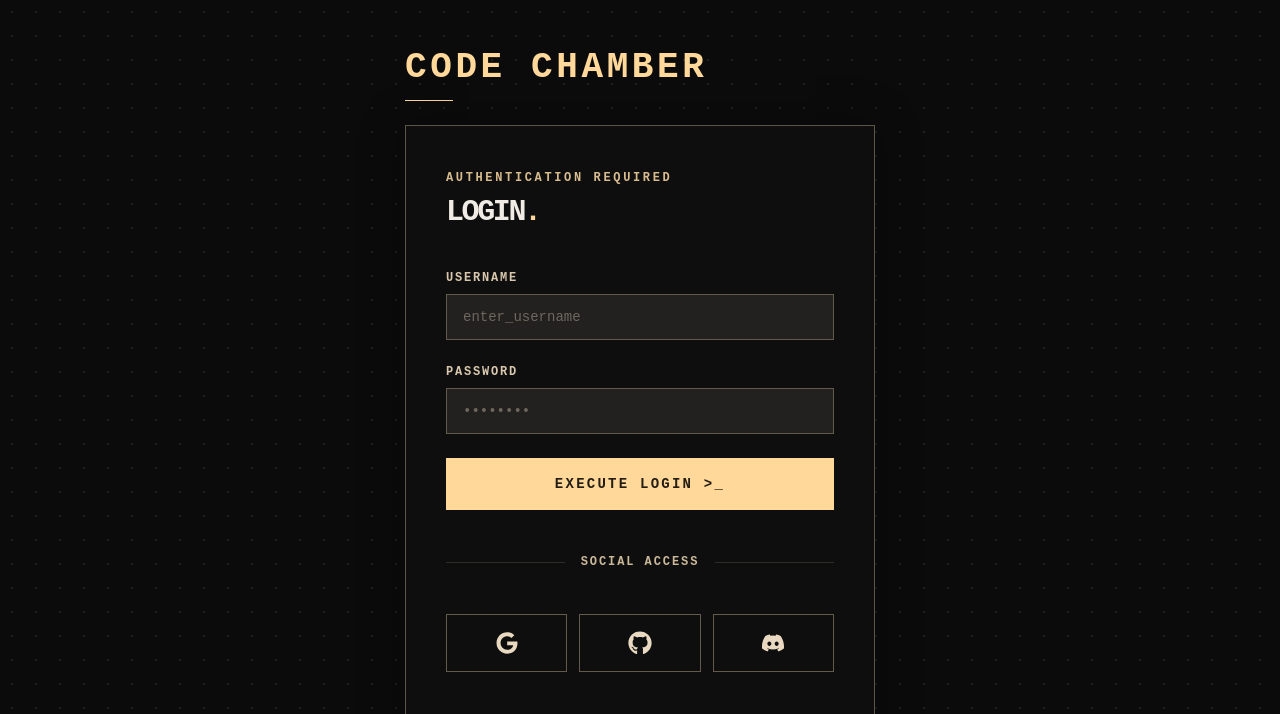
Scenario: Login - manual submit › shows the authenticating state and disables the submit button while in flight
In the field with placeholder "enter_username": (640, 317) [446,294,834,340], type "alice"
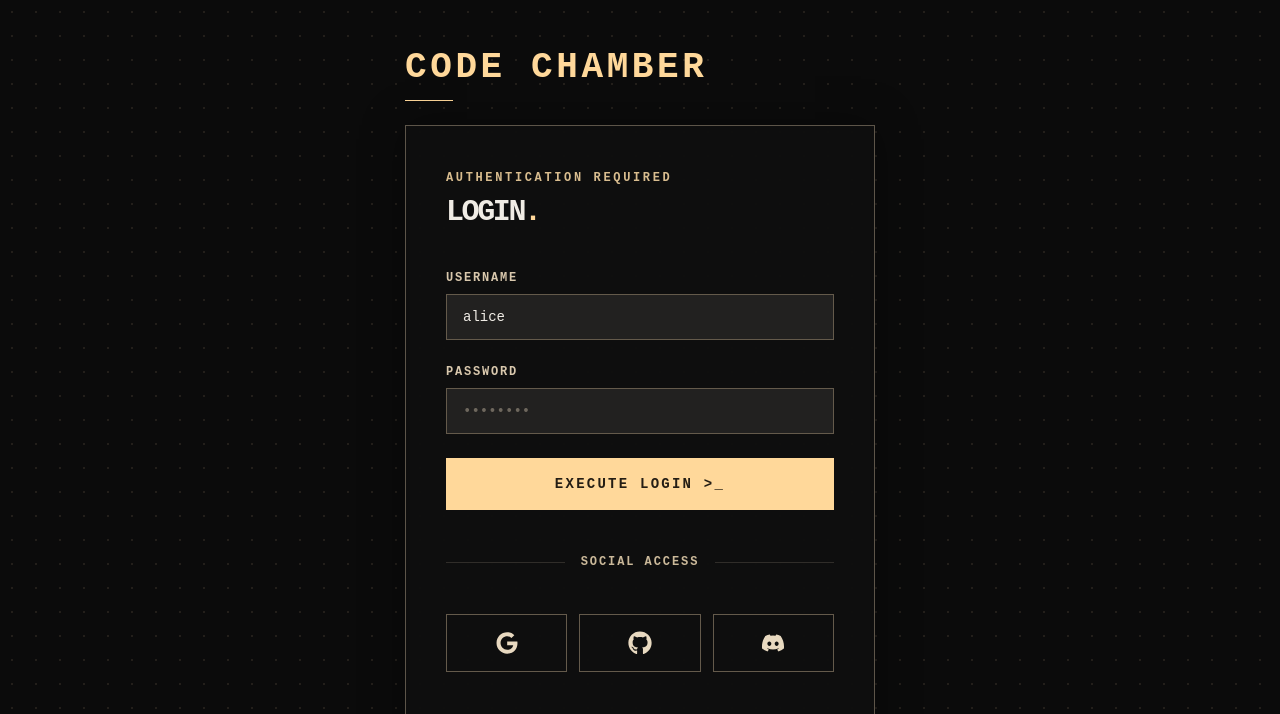
In the password field with placeholder "••••••••": (640, 411) [446,388,834,434], type "hunter2"
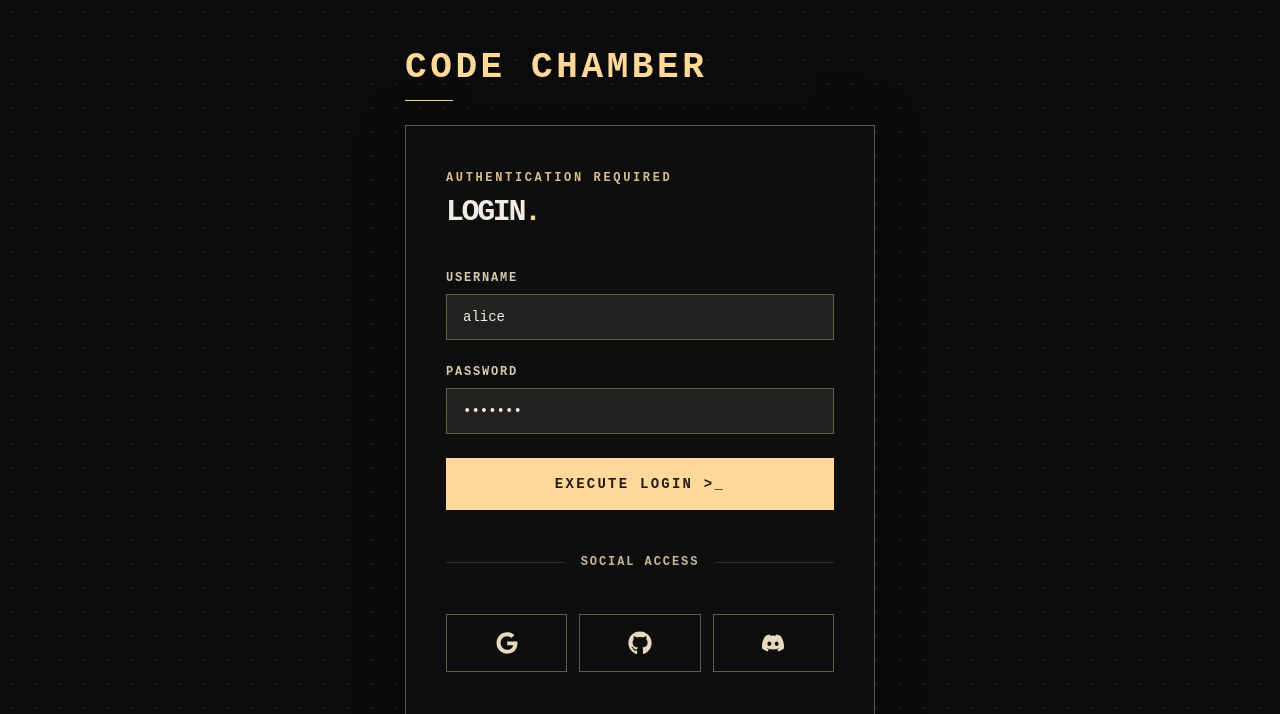
Click the button "EXECUTE LOGIN >_": click(640, 484) [446,458,834,510]
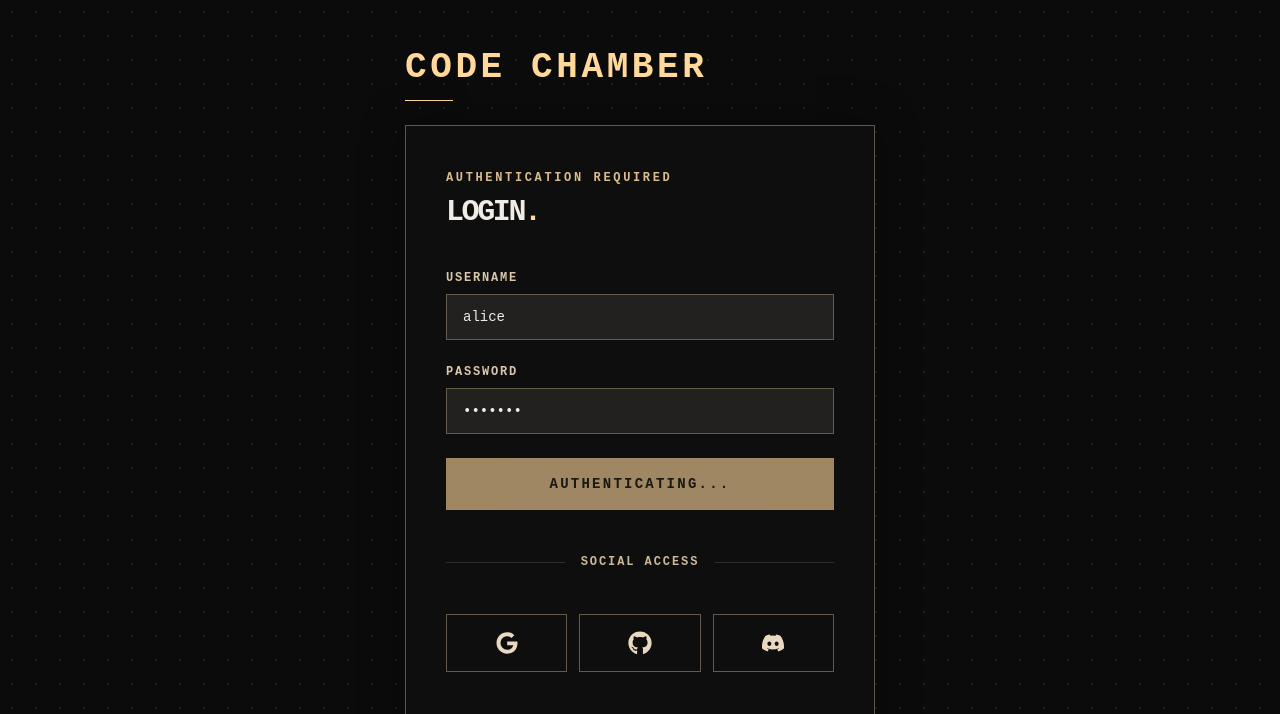
Result: the button "AUTHENTICATING..." is disabled at [446,458,834,510]
